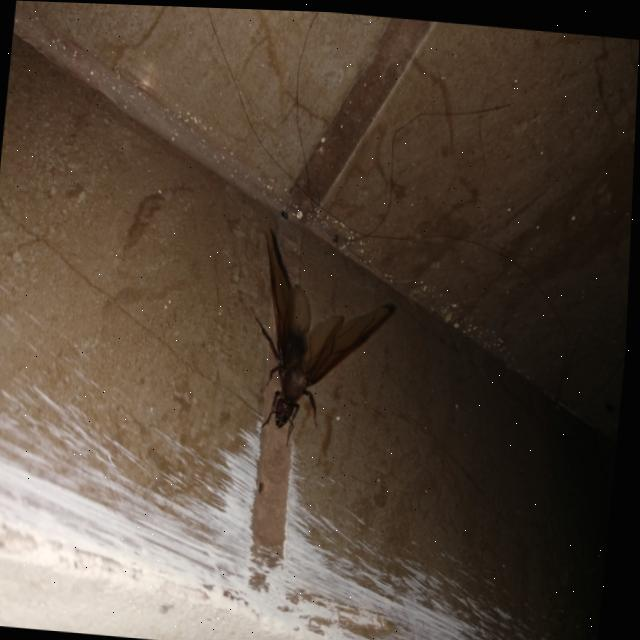Alive-Female-Alate: (242, 218, 399, 454)
